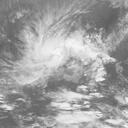cyclone: (25, 38, 84, 95)
